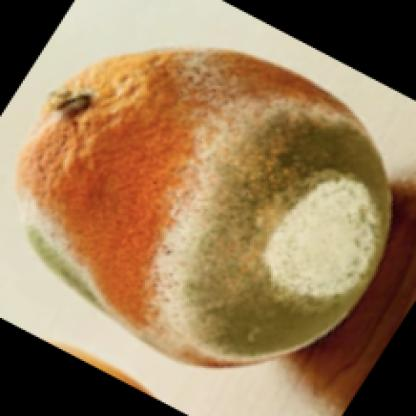rotten: (20, 49, 395, 368)
